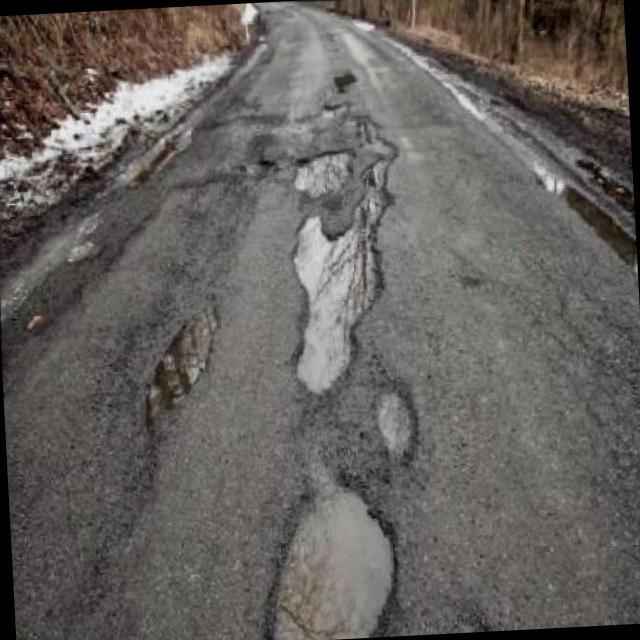Pothole: (293, 119, 399, 396), (263, 483, 397, 640), (374, 370, 421, 475), (295, 153, 353, 197)
